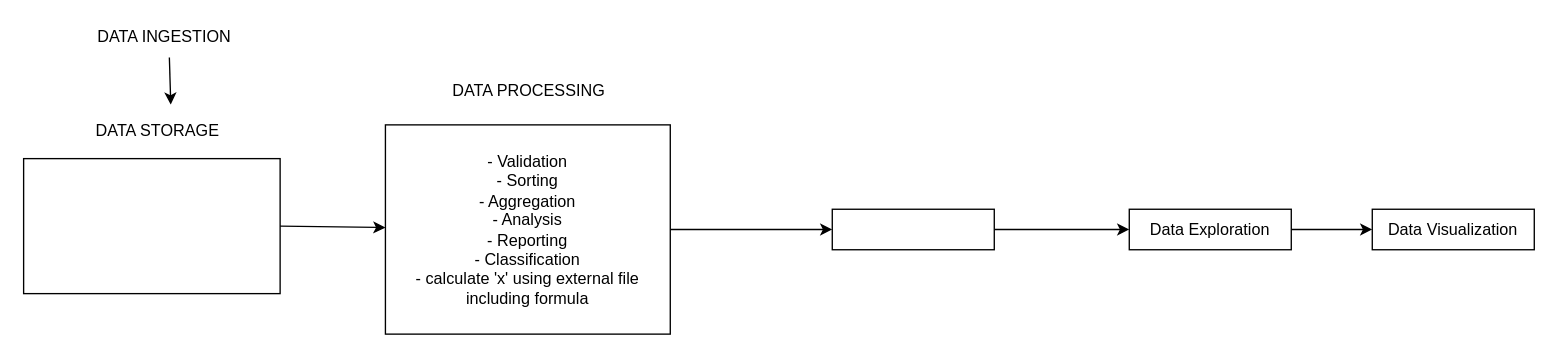
This 1558x358 diagram has some shape labels left out. Here are the shapes that lost their labels. From the top down, the box of each, then its label:
(22, 157, 280, 294): - CSV - TXT - PostgresSQL - JSON -AVRO -NoSQL
(831, 208, 994, 250): Data Analysis
